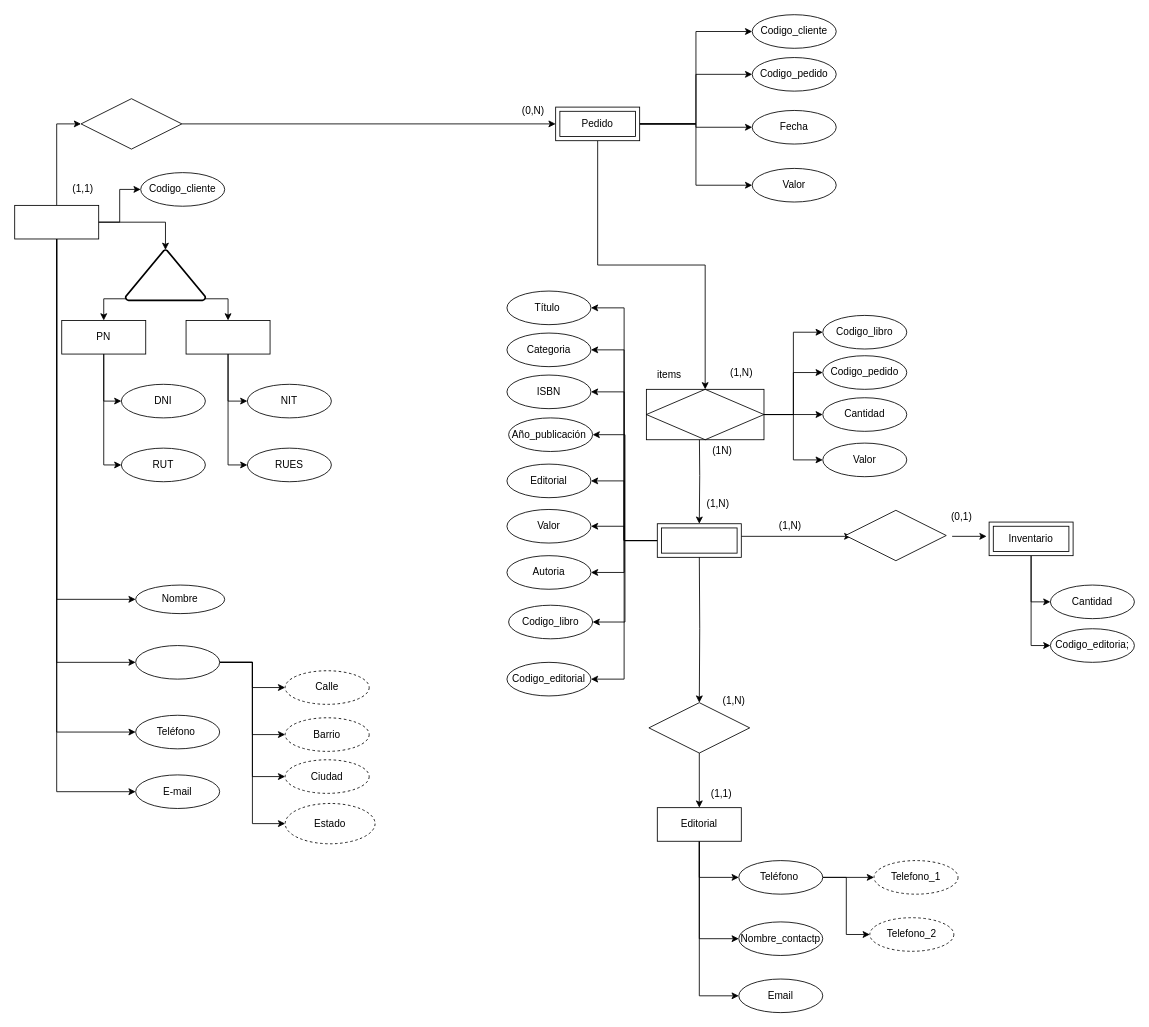
The diagram is 1149 pixels wide and 1027 high, and some of its shapes have lost their labels. The shapes that lost their labels are listed below. From the top down, each one's centre as x and y in pixels, then its label:
At (131,123): "Compra".
At (56,222): "Cliente".
At (165,275): "ID".
At (227,337): "PJ".
At (705,414): "Contiene".
At (698,540): "Libros".
At (895,535): "Existe".
At (177,662): "Dirección".
At (699,727): "Pertenencia".
